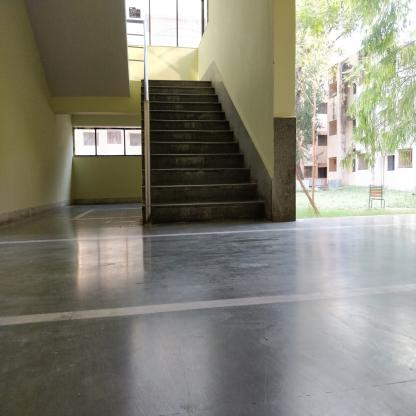stairs: (154, 80, 213, 229)
